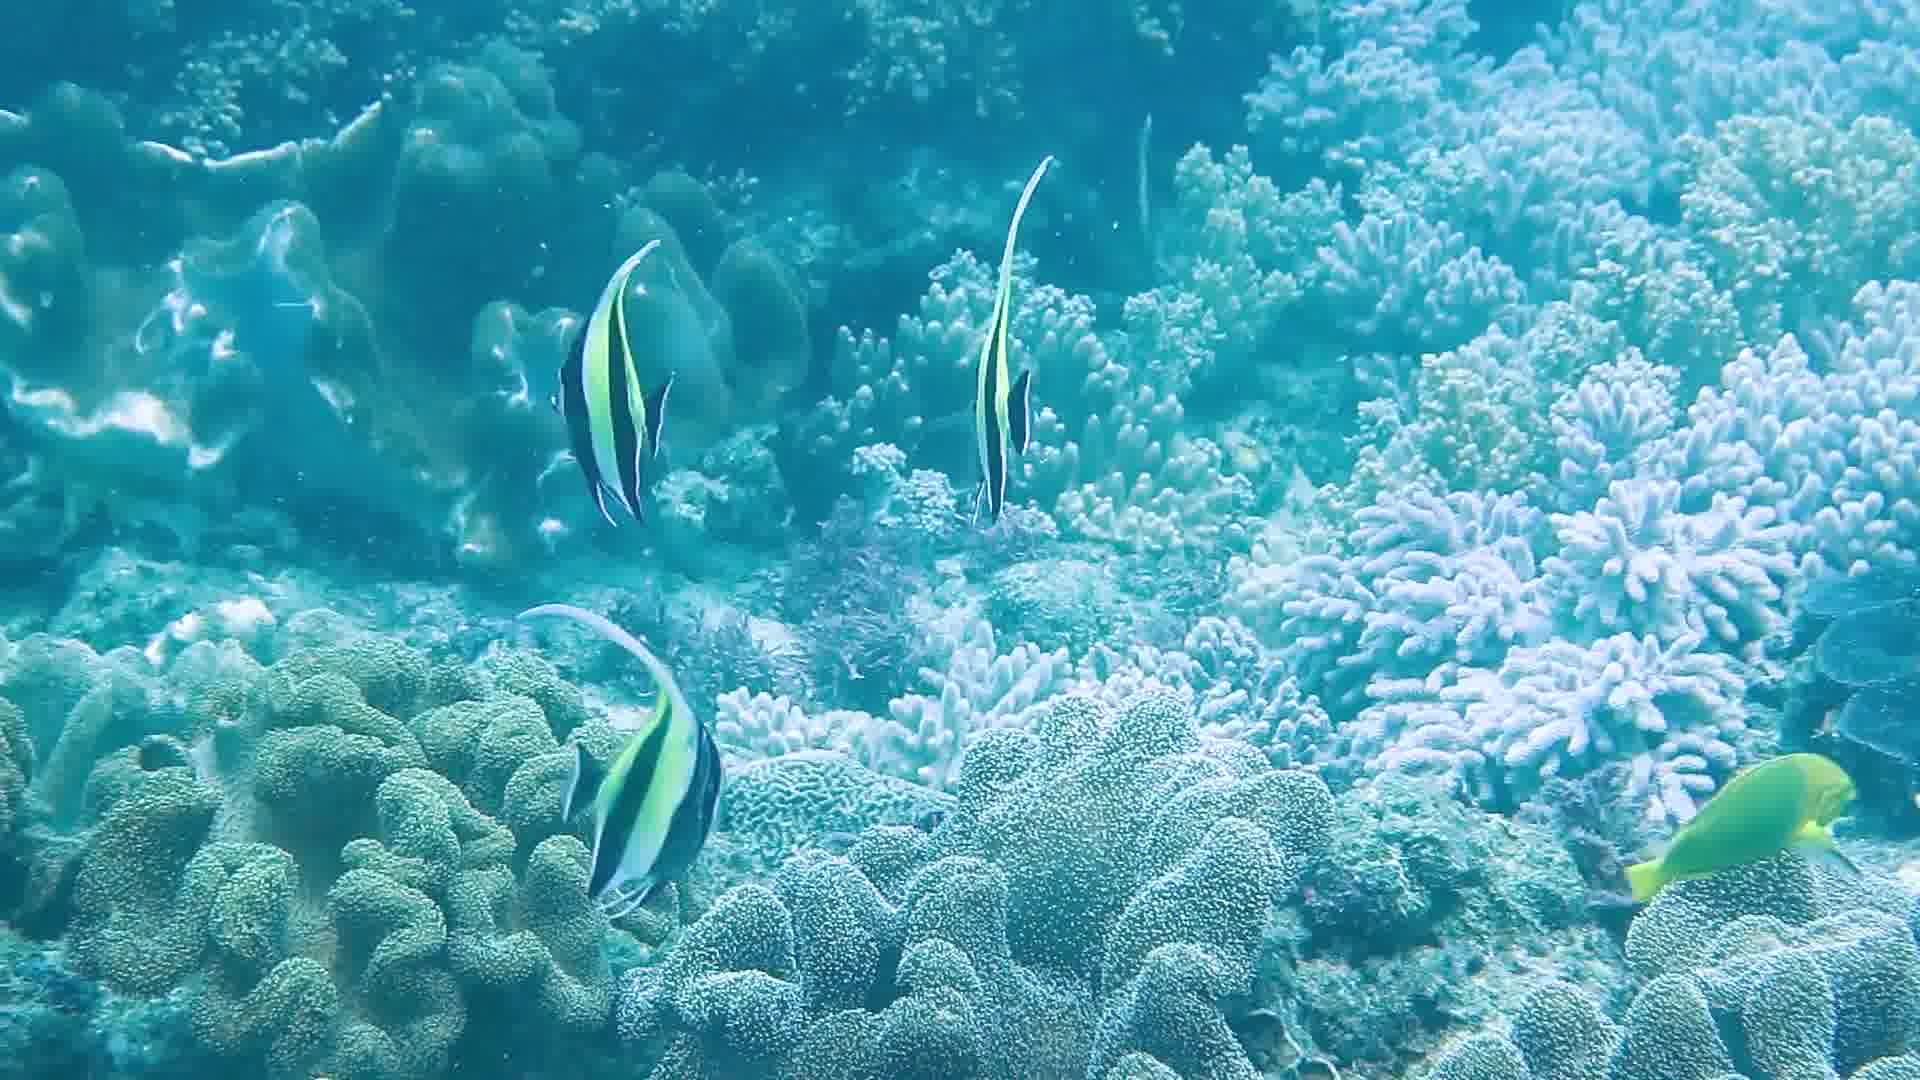Zanclus cornutus: (539, 638, 737, 906), (531, 287, 688, 547), (936, 313, 1058, 516)
